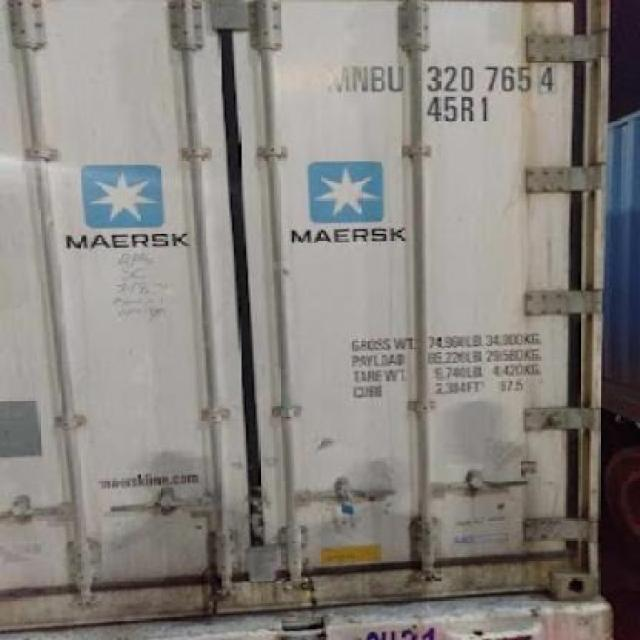ISO: (427, 93, 489, 123)
container_number: (312, 58, 567, 94)
